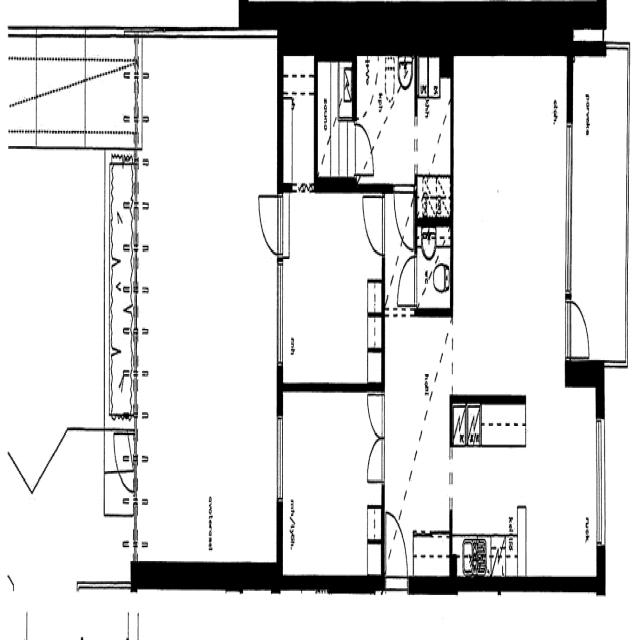door: (386, 514, 407, 593), (277, 196, 302, 253), (564, 302, 589, 358), (393, 184, 413, 248), (393, 184, 413, 248), (362, 198, 384, 255), (354, 124, 374, 175), (398, 256, 417, 304), (366, 394, 384, 438), (366, 438, 384, 480)
